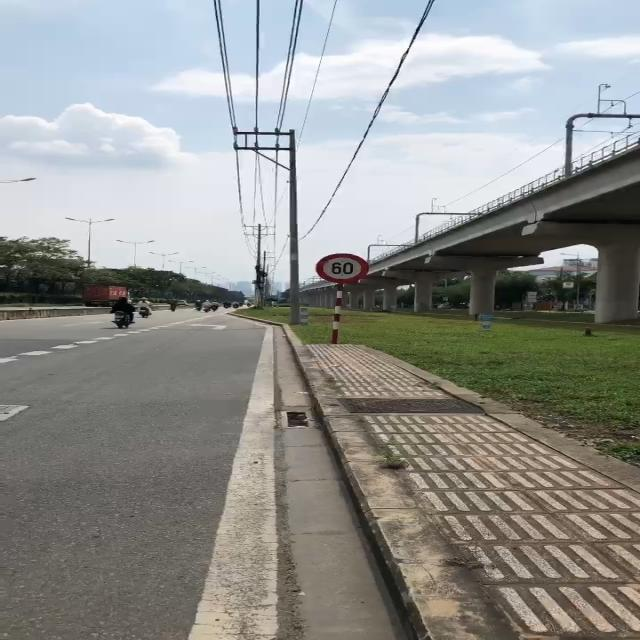Bien bao toc do toi da cho phep: (313, 252, 377, 287)
